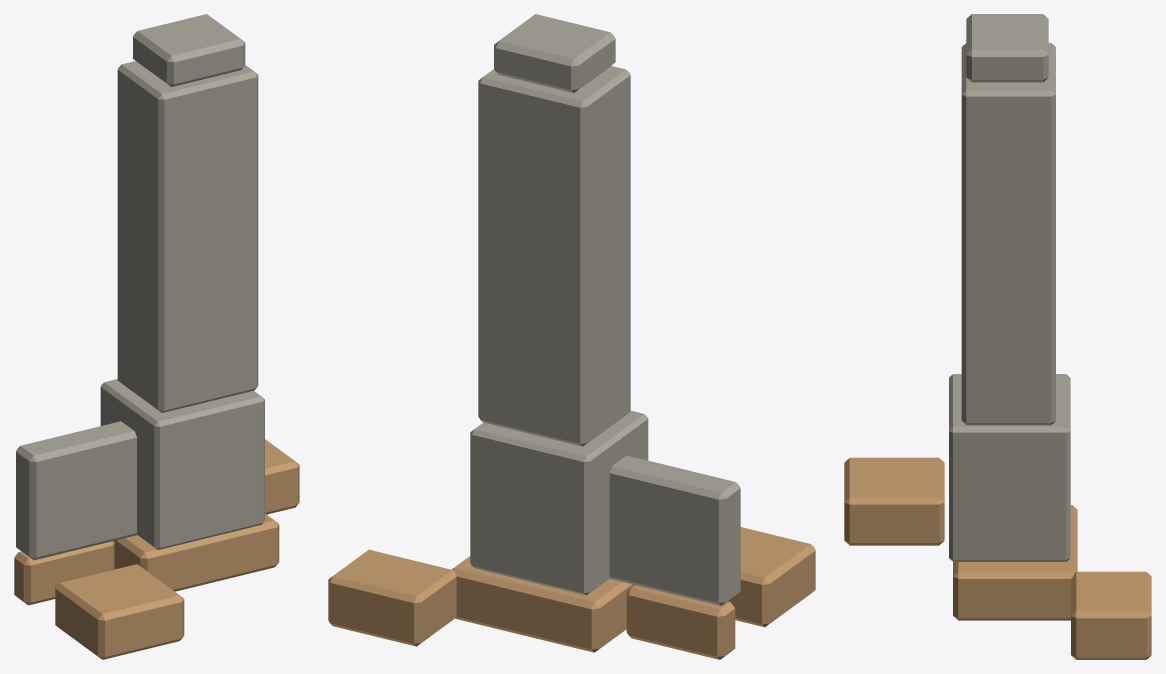
File: ruin-pillar.glb
3 renders of one model, left to right at view 1: azimuth 30°, elevation 25°; view 2: azimuth 150°, elevation 25°; view 3: azimuth 270°, elevation 25°, orthographic. The views are drawn at different scales.
Visible parts, largest first — view 1: ruin-pillar; view 2: ruin-pillar; view 3: ruin-pillar.
Boxes of the visible parts, bbox=[...] form: ruin-pillar: bbox=[14, 14, 299, 659]; ruin-pillar: bbox=[328, 14, 815, 659]; ruin-pillar: bbox=[844, 14, 1151, 659].
Size of the model in its own units: 5.46 by 8.95 by 4.47.
Materials: 1 (1 with a texture image).
